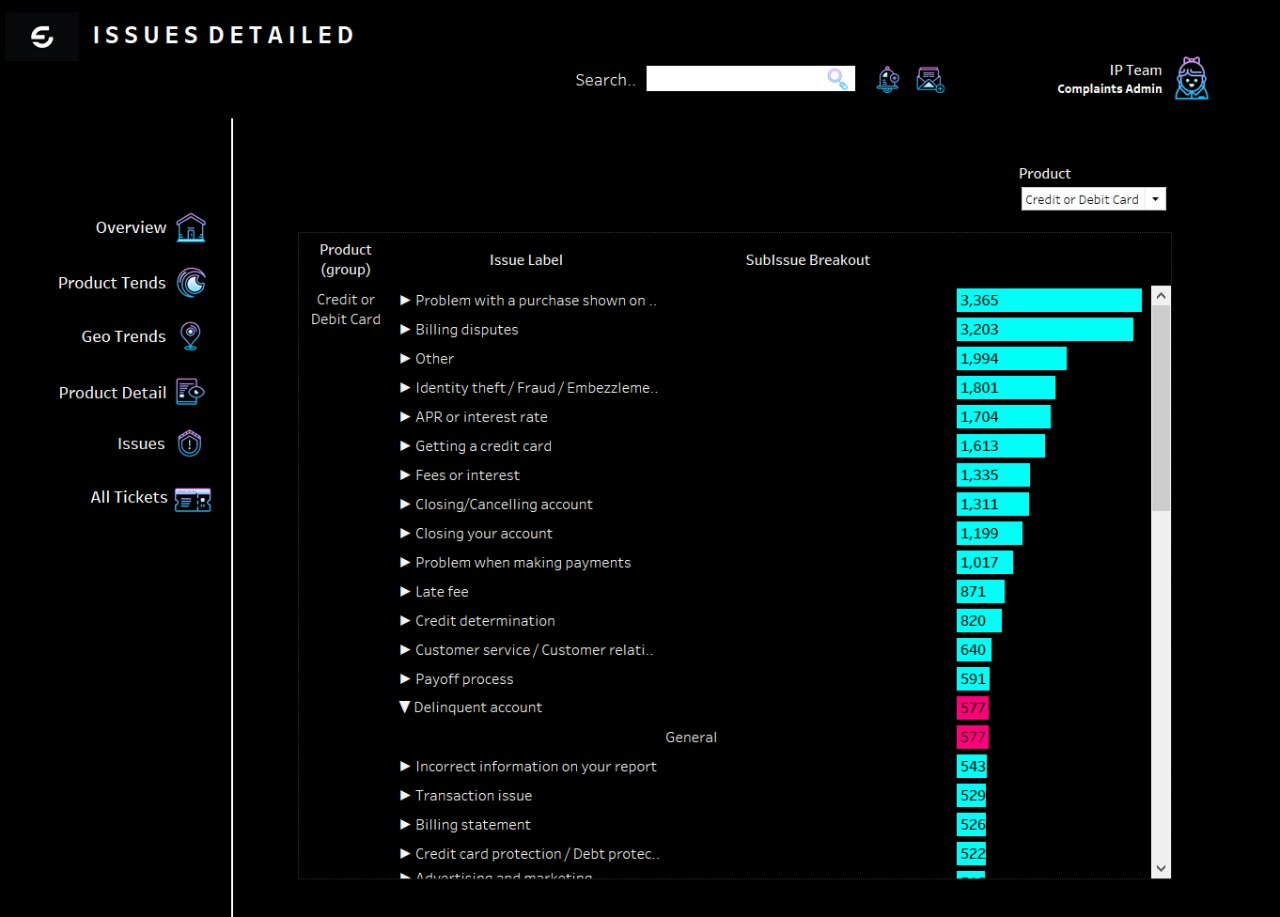

The page's visual inventory and layout, read from the dashboard file:
{"tool":"tableau","page":{"name":"Issues Detailed","canvas":[1400,1000],"ordinal":1},"visuals":[{"type":"image","param":"Image/360_F_396950188_ydxRS4NYfG9m2hhmGrhLL0HtvlkpDrM2.jpg","box":[24,25,79,71]},{"type":"text","box":[114,26,368,43]},{"type":"image","param":"Image/icons8-businesswoman-64.png","box":[1259,67,56,59]},{"type":"text","box":[1087,75,172,41]},{"type":"image","param":"Image/icons8-add-reminder-64.png","box":[946,79,35,36]},{"type":"image","param":"Image/icons8-add-mail-64.png","box":[993,80,31,32]},{"type":"text","box":[628,81,100,30]},{"type":"image","param":"Image/icons8-search-more-64.png","box":[896,82,32,28]},{"type":"filter","title":"Issue Drill Down","param":"[federated.1aklwpt0nozqiz1fqjpis0nd9pe3].[Product (group)]","box":[1103,186,160,62]},{"type":"dashboard-object","box":[203,233,38,42]},{"type":"text","box":[100,238,100,30]},{"type":"worksheet","title":"Issue Drill Down","mark":"Bar","rows":["Calculation_159314891862323213","Issue","Calculation_159314891858657289"],"cols":["Complaint ID (copy)_2064900483920195585"],"box":[336,259,930,689]},{"type":"dashboard-object","box":[203,292,39,41]},{"type":"text","box":[77,297,122,30]},{"type":"dashboard-object","box":[203,349,37,42]},{"type":"text","box":[99,354,100,30]},{"type":"dashboard-object","box":[203,408,37,42]},{"type":"text","box":[77,414,123,30]},{"type":"dashboard-object","box":[203,463,35,41]},{"type":"text","box":[98,468,100,30]},{"type":"dashboard-object","box":[203,523,42,42]},{"type":"text","box":[101,525,100,30]}]}

Visuals, with their boxes on the page's 1400x1000 design canvas (x1, y1, x2, y2). These are canvas units, not pixel positions in the 1280x917 screenshot, which may show the page scaled, cropped or inside an application window:
image: x1=24, y1=25, x2=103, y2=96
text: x1=114, y1=26, x2=482, y2=69
image: x1=1259, y1=67, x2=1315, y2=126
text: x1=1087, y1=75, x2=1259, y2=116
image: x1=946, y1=79, x2=981, y2=115
image: x1=993, y1=80, x2=1024, y2=112
text: x1=628, y1=81, x2=728, y2=111
image: x1=896, y1=82, x2=928, y2=110
"Issue Drill Down" filter: x1=1103, y1=186, x2=1263, y2=248
dashboard-object: x1=203, y1=233, x2=241, y2=275
text: x1=100, y1=238, x2=200, y2=268
"Issue Drill Down" worksheet (Bar marks): x1=336, y1=259, x2=1266, y2=948
dashboard-object: x1=203, y1=292, x2=242, y2=333
text: x1=77, y1=297, x2=199, y2=327
dashboard-object: x1=203, y1=349, x2=240, y2=391
text: x1=99, y1=354, x2=199, y2=384
dashboard-object: x1=203, y1=408, x2=240, y2=450
text: x1=77, y1=414, x2=200, y2=444
dashboard-object: x1=203, y1=463, x2=238, y2=504
text: x1=98, y1=468, x2=198, y2=498
dashboard-object: x1=203, y1=523, x2=245, y2=565
text: x1=101, y1=525, x2=201, y2=555
